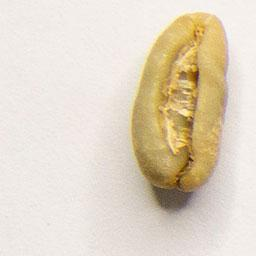longberry: (127, 9, 233, 200)
